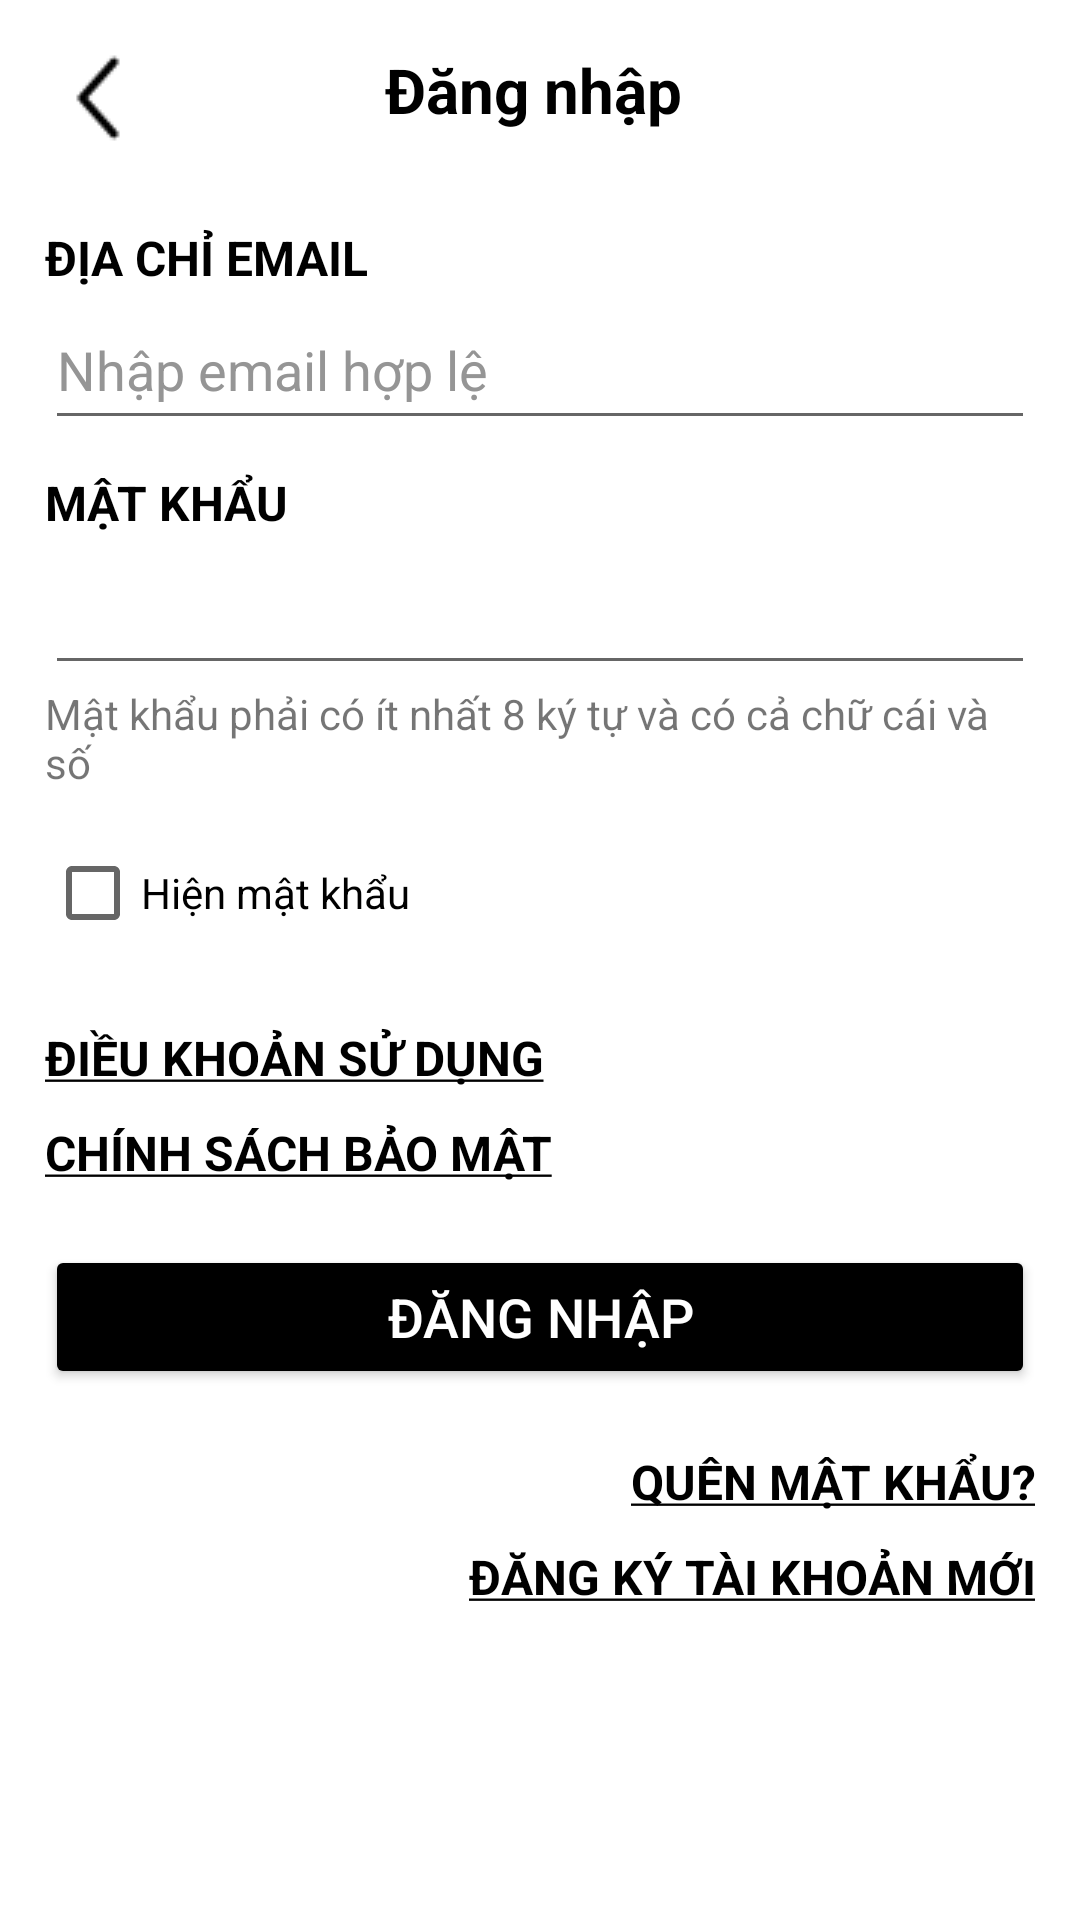

Where to tap for icons on this 1080×1920 app screen, as (x=x, y=y):
left: (x=98, y=97)
